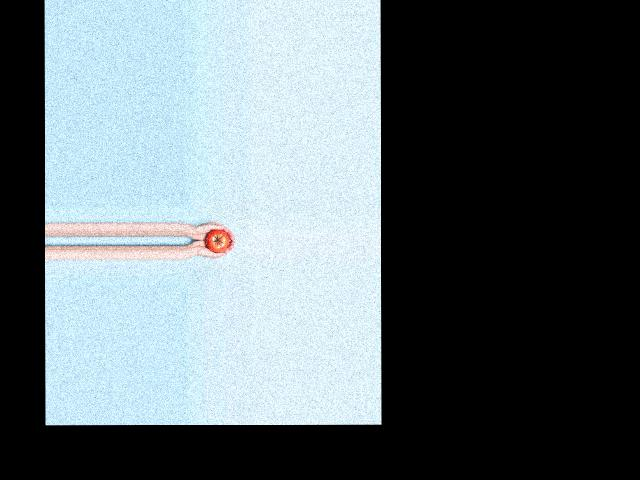tomato: (205, 228, 229, 252)
